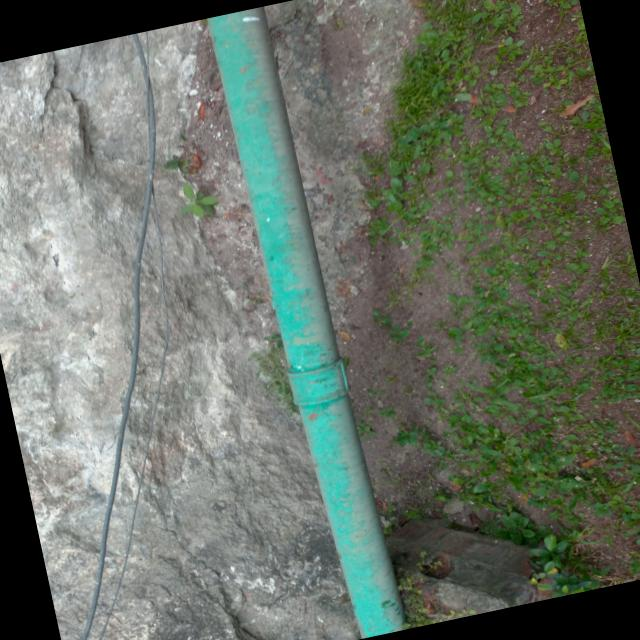gas: (209, 6, 407, 638)
